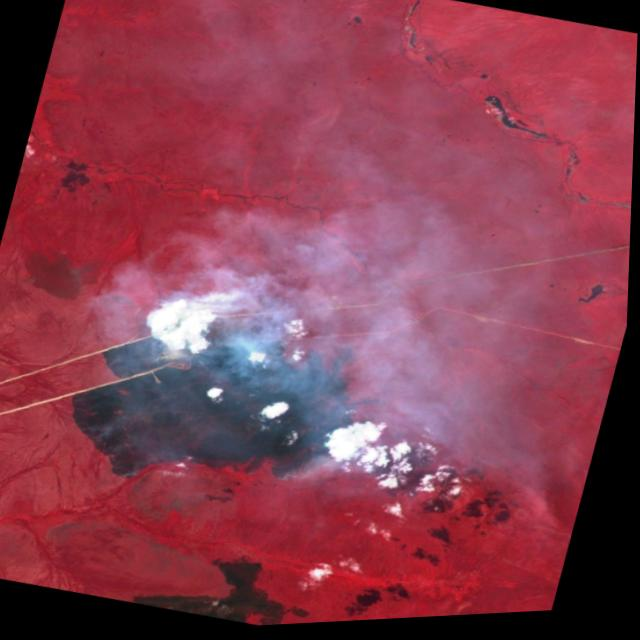fire: (52, 290, 408, 541)
